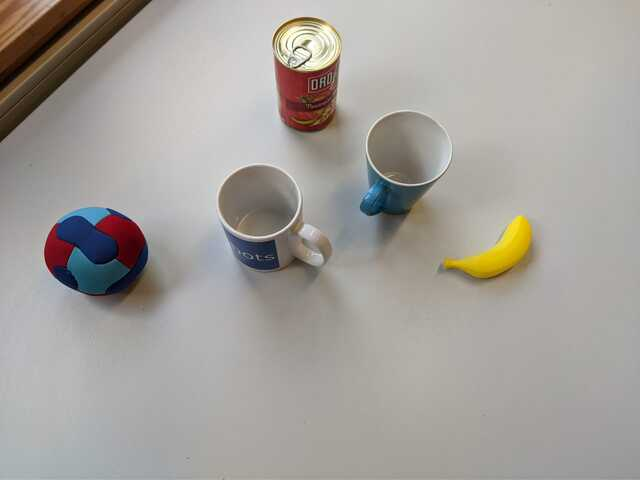005_tomato_soup_can: (268, 12, 344, 134)
011_banana: (438, 211, 536, 288)
025_mug: (214, 160, 339, 276), (357, 109, 457, 222)
057_racquetball: (41, 203, 154, 301)
